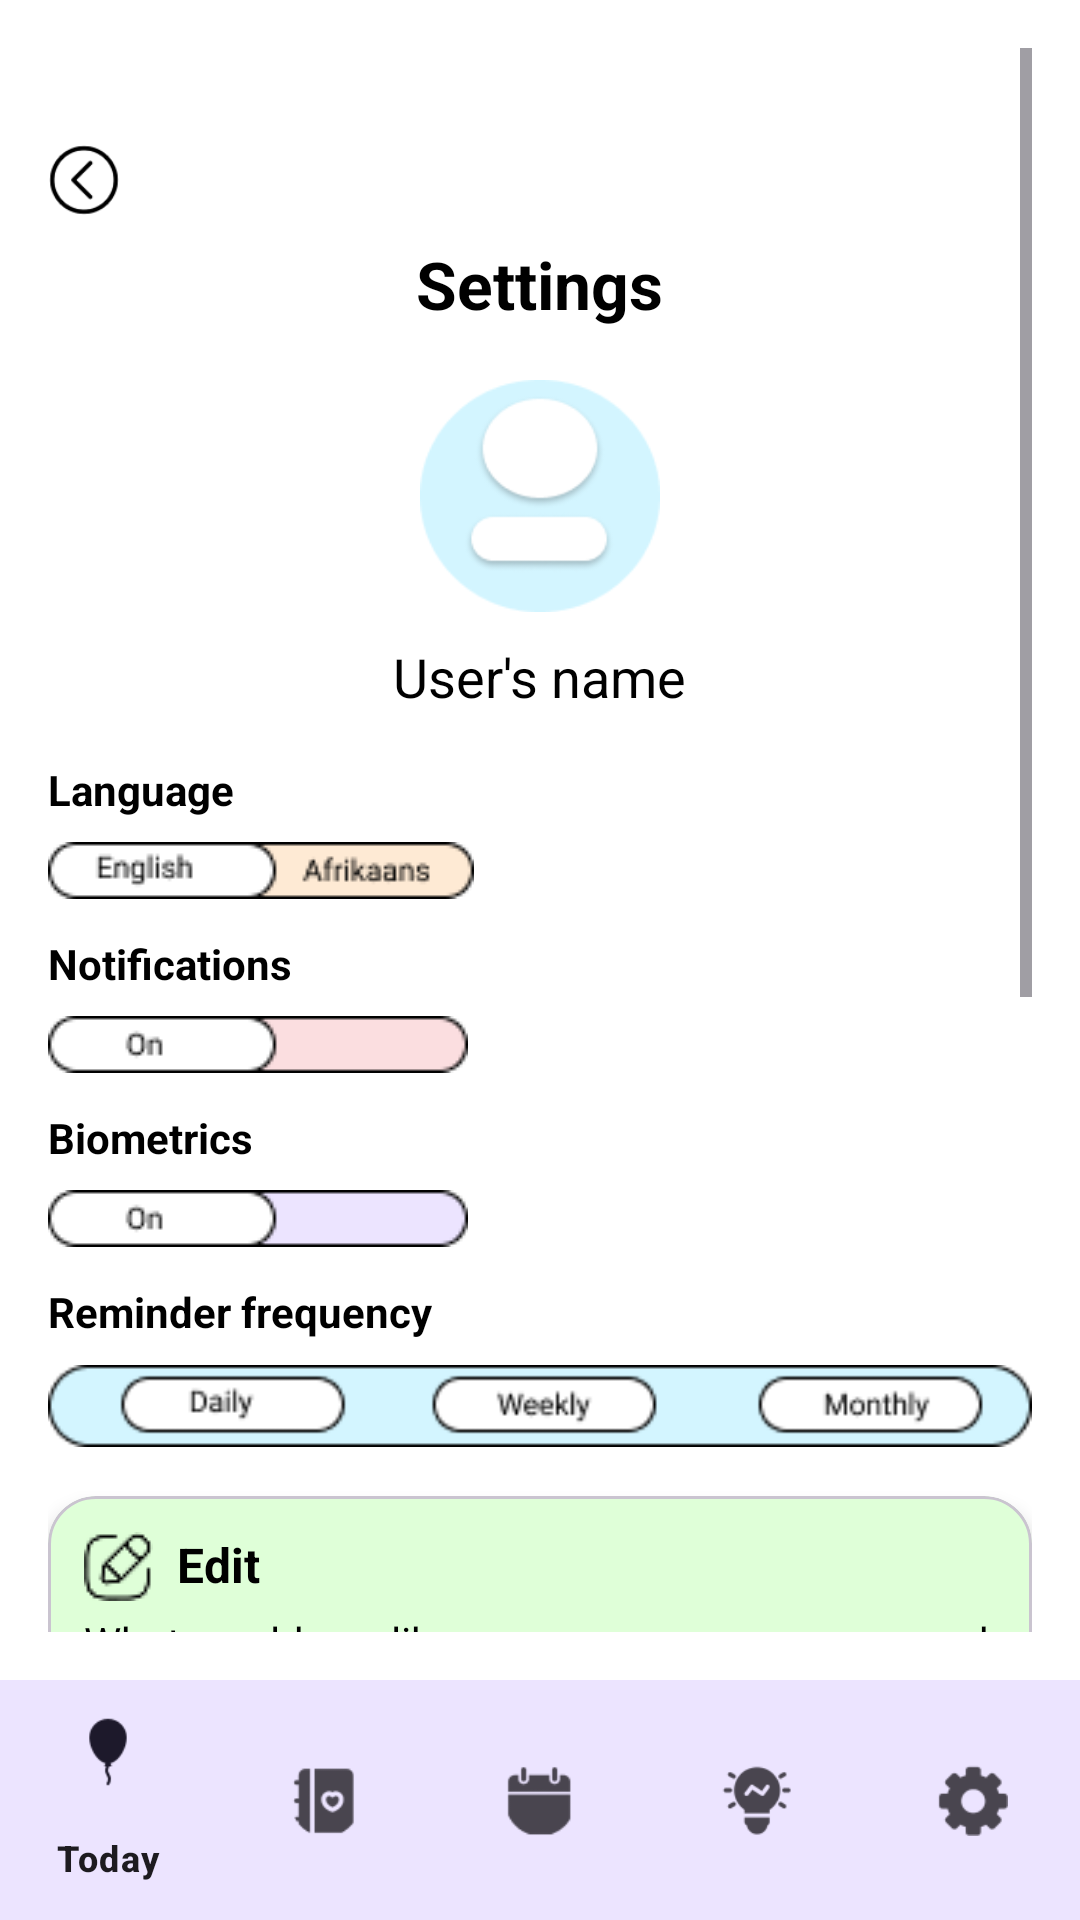

Icon bounding boxes for this 1080*1920 phone screenshot, format box=[x1, y1, x2, y2]:
Back: box=[50, 146, 118, 214]
